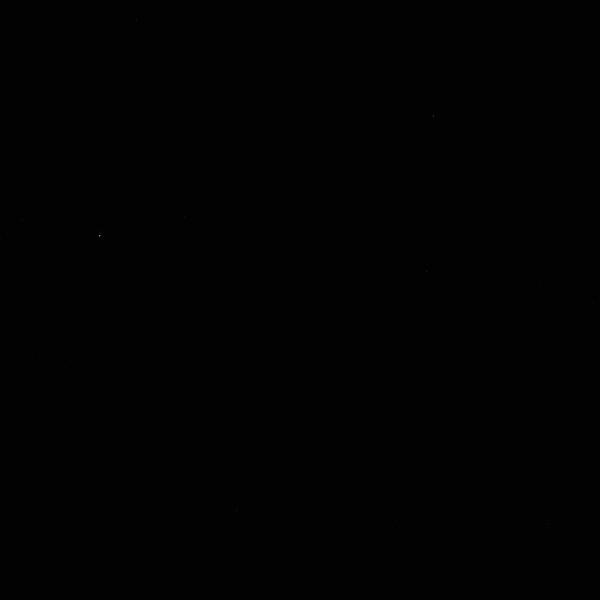no_electricity: (1, 1, 600, 600)
